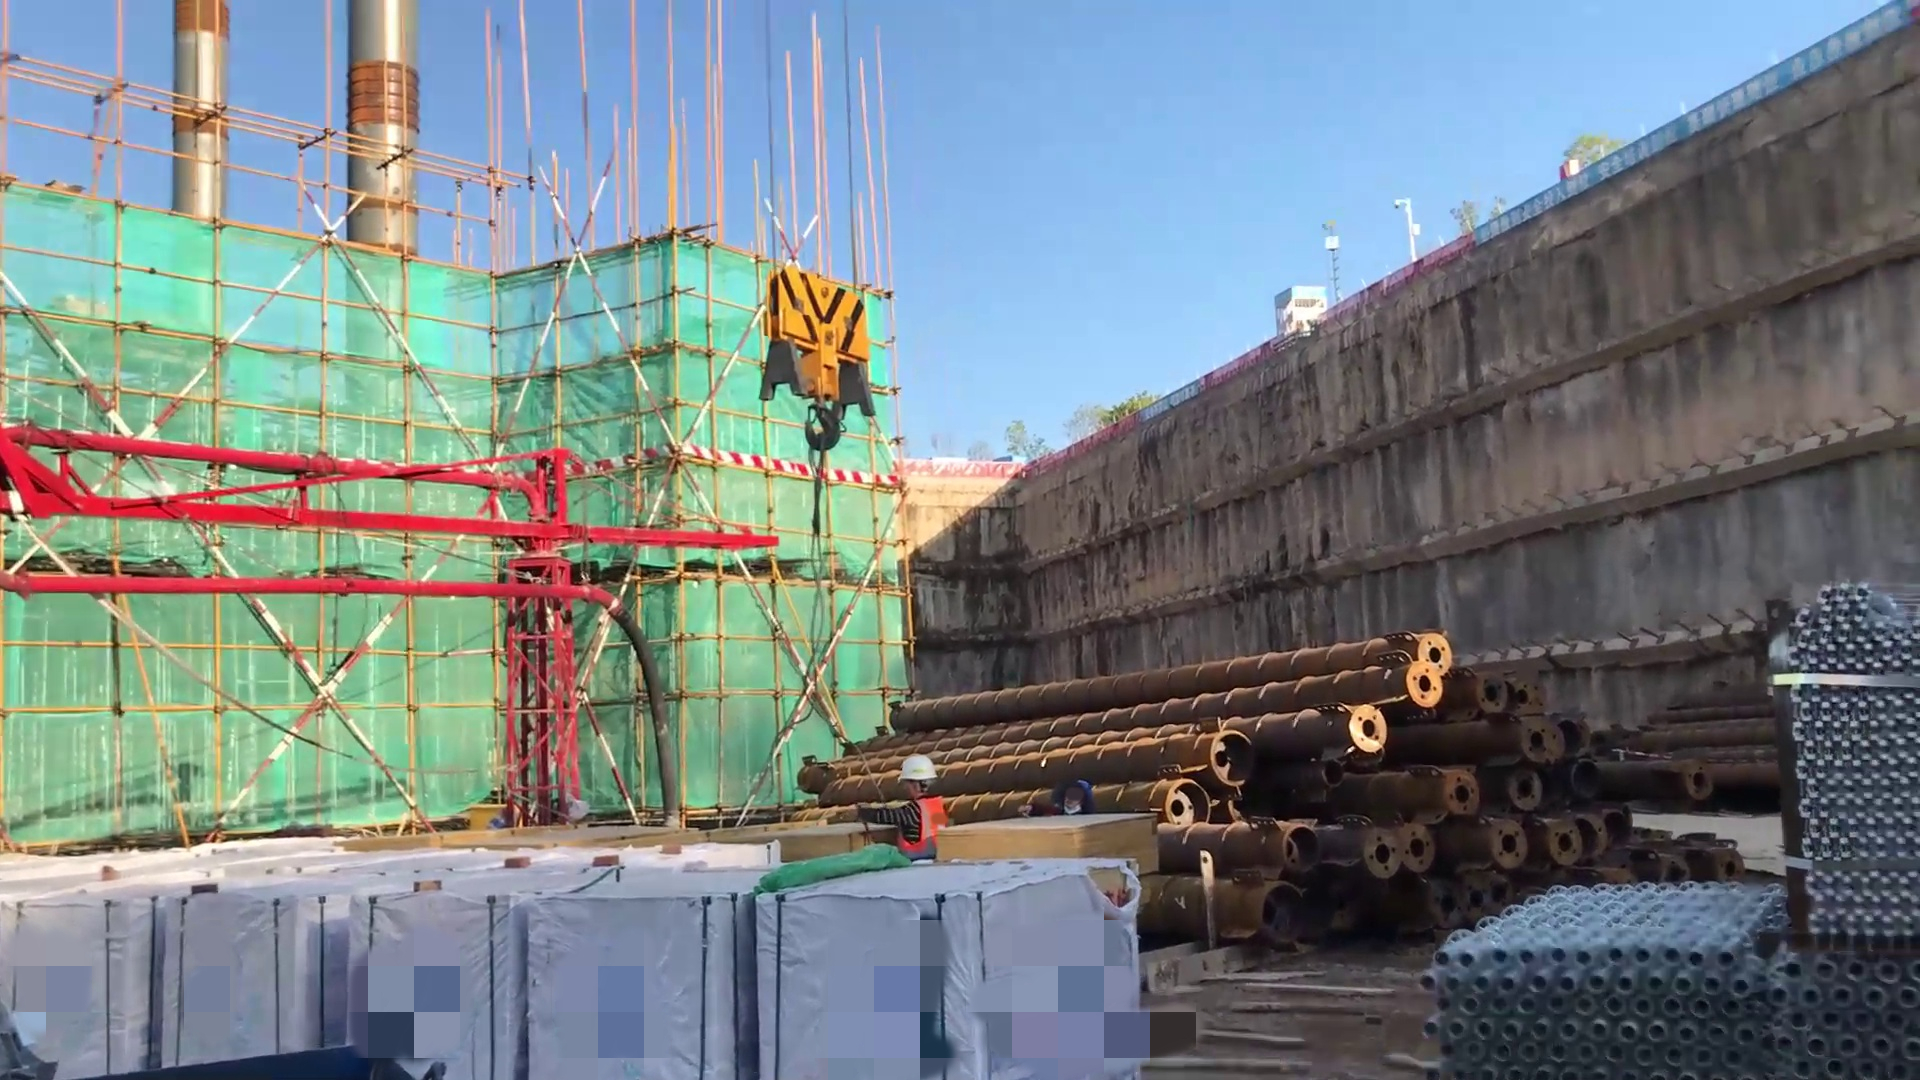board: (934, 805, 1162, 890)
ebox: (459, 799, 525, 839)
helmet: (1044, 768, 1100, 830), (888, 755, 938, 802)
hook: (747, 238, 904, 524)
person: (825, 752, 954, 864)
scaffold: (1420, 864, 1920, 1077), (1763, 571, 1920, 937)
slogan: (1458, 1, 1913, 259), (1143, 373, 1209, 423)
vest: (887, 797, 956, 855)
